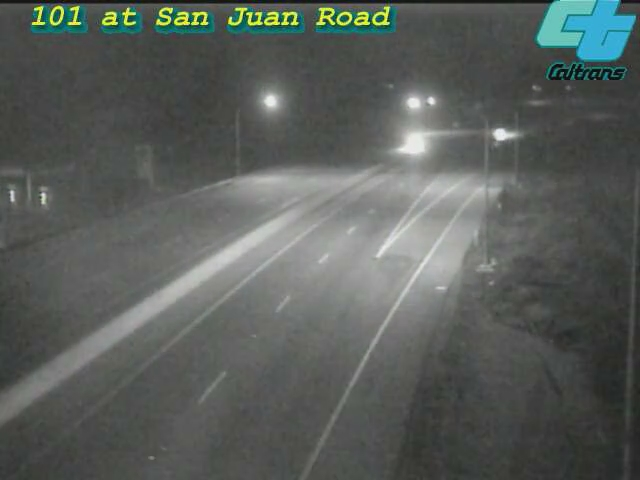vehicle: (388, 119, 438, 169), (475, 109, 525, 159)
